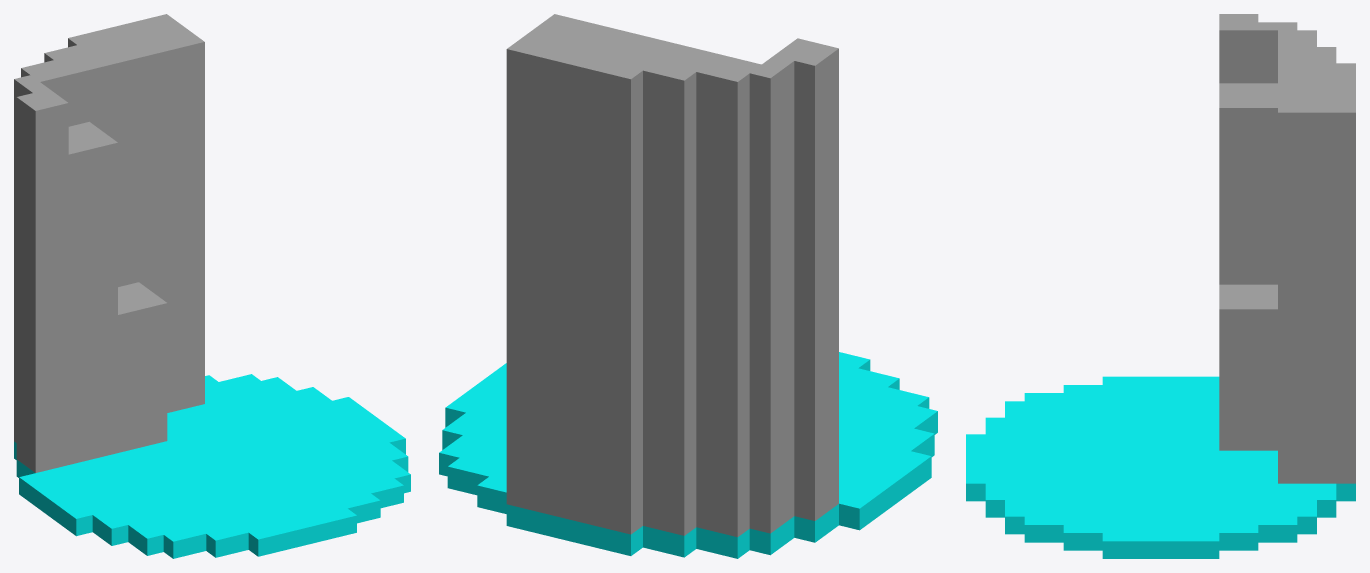
The model's file is Mine4-3_ORIG.obj.
3 views of the same model, side by side, from view 1: azimuth 30°, elevation 25°; view 2: azimuth 150°, elevation 25°; view 3: azimuth 270°, elevation 25° (orthographic). The views are drawn at different scales.
Size of the model in its own units: 2 by 2.2 by 2.
